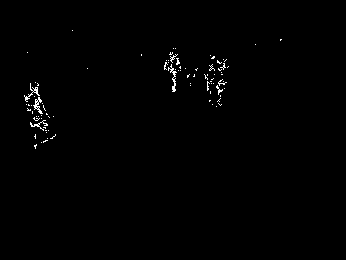person: (22, 80, 57, 149), (204, 52, 228, 108), (162, 48, 183, 94)
